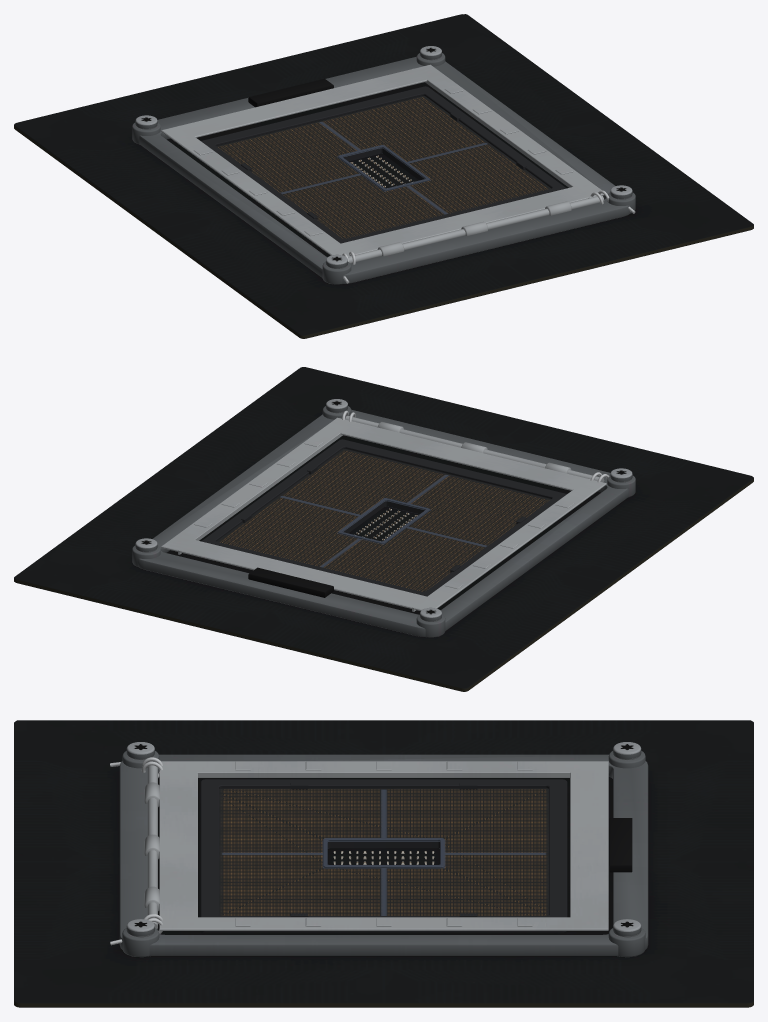
File: socket-sp7.glb
3 renders of one model, top to bottom at view 1: azimuth 30°, elevation 25°; view 2: azimuth 150°, elevation 25°; view 3: azimuth 270°, elevation 25°, orthographic. The views are drawn at different scales.
Parts seen in each view (by area): view 1: pcb_patch, housing, force_frame, rail_frame, housing_walls, lever, screws, latch_bar; view 2: pcb_patch, housing, force_frame, rail_frame, housing_walls, lever, latch_bar, screws; view 3: pcb_patch, housing, rail_frame, force_frame, housing_walls, lever, screws, latch_bar.
Boxes of the visible parts, x1,y1,x2,y2 form: pcb_patch: (14, 14, 753, 338); housing: (217, 96, 550, 238); force_frame: (132, 53, 635, 284); rail_frame: (161, 64, 604, 256); housing_walls: (201, 86, 566, 243); lever: (342, 190, 635, 283); screws: (135, 46, 632, 268); latch_bar: (248, 78, 333, 107); pcb_patch: (14, 367, 753, 691); housing: (217, 449, 550, 591); force_frame: (132, 406, 635, 637); rail_frame: (161, 417, 606, 611); housing_walls: (201, 439, 566, 596); lever: (342, 410, 609, 489); latch_bar: (248, 567, 333, 597); screws: (135, 399, 632, 621); pcb_patch: (14, 720, 753, 1007); housing: (201, 788, 566, 932); rail_frame: (159, 761, 608, 930); force_frame: (119, 751, 648, 957); housing_walls: (200, 779, 567, 917); lever: (110, 757, 162, 945); screws: (126, 742, 641, 937); latch_bar: (609, 818, 632, 872).
Bounding box in the file's own units: 0.1899 × 0.00958 × 0.21.
12 materials, 5 textured.
